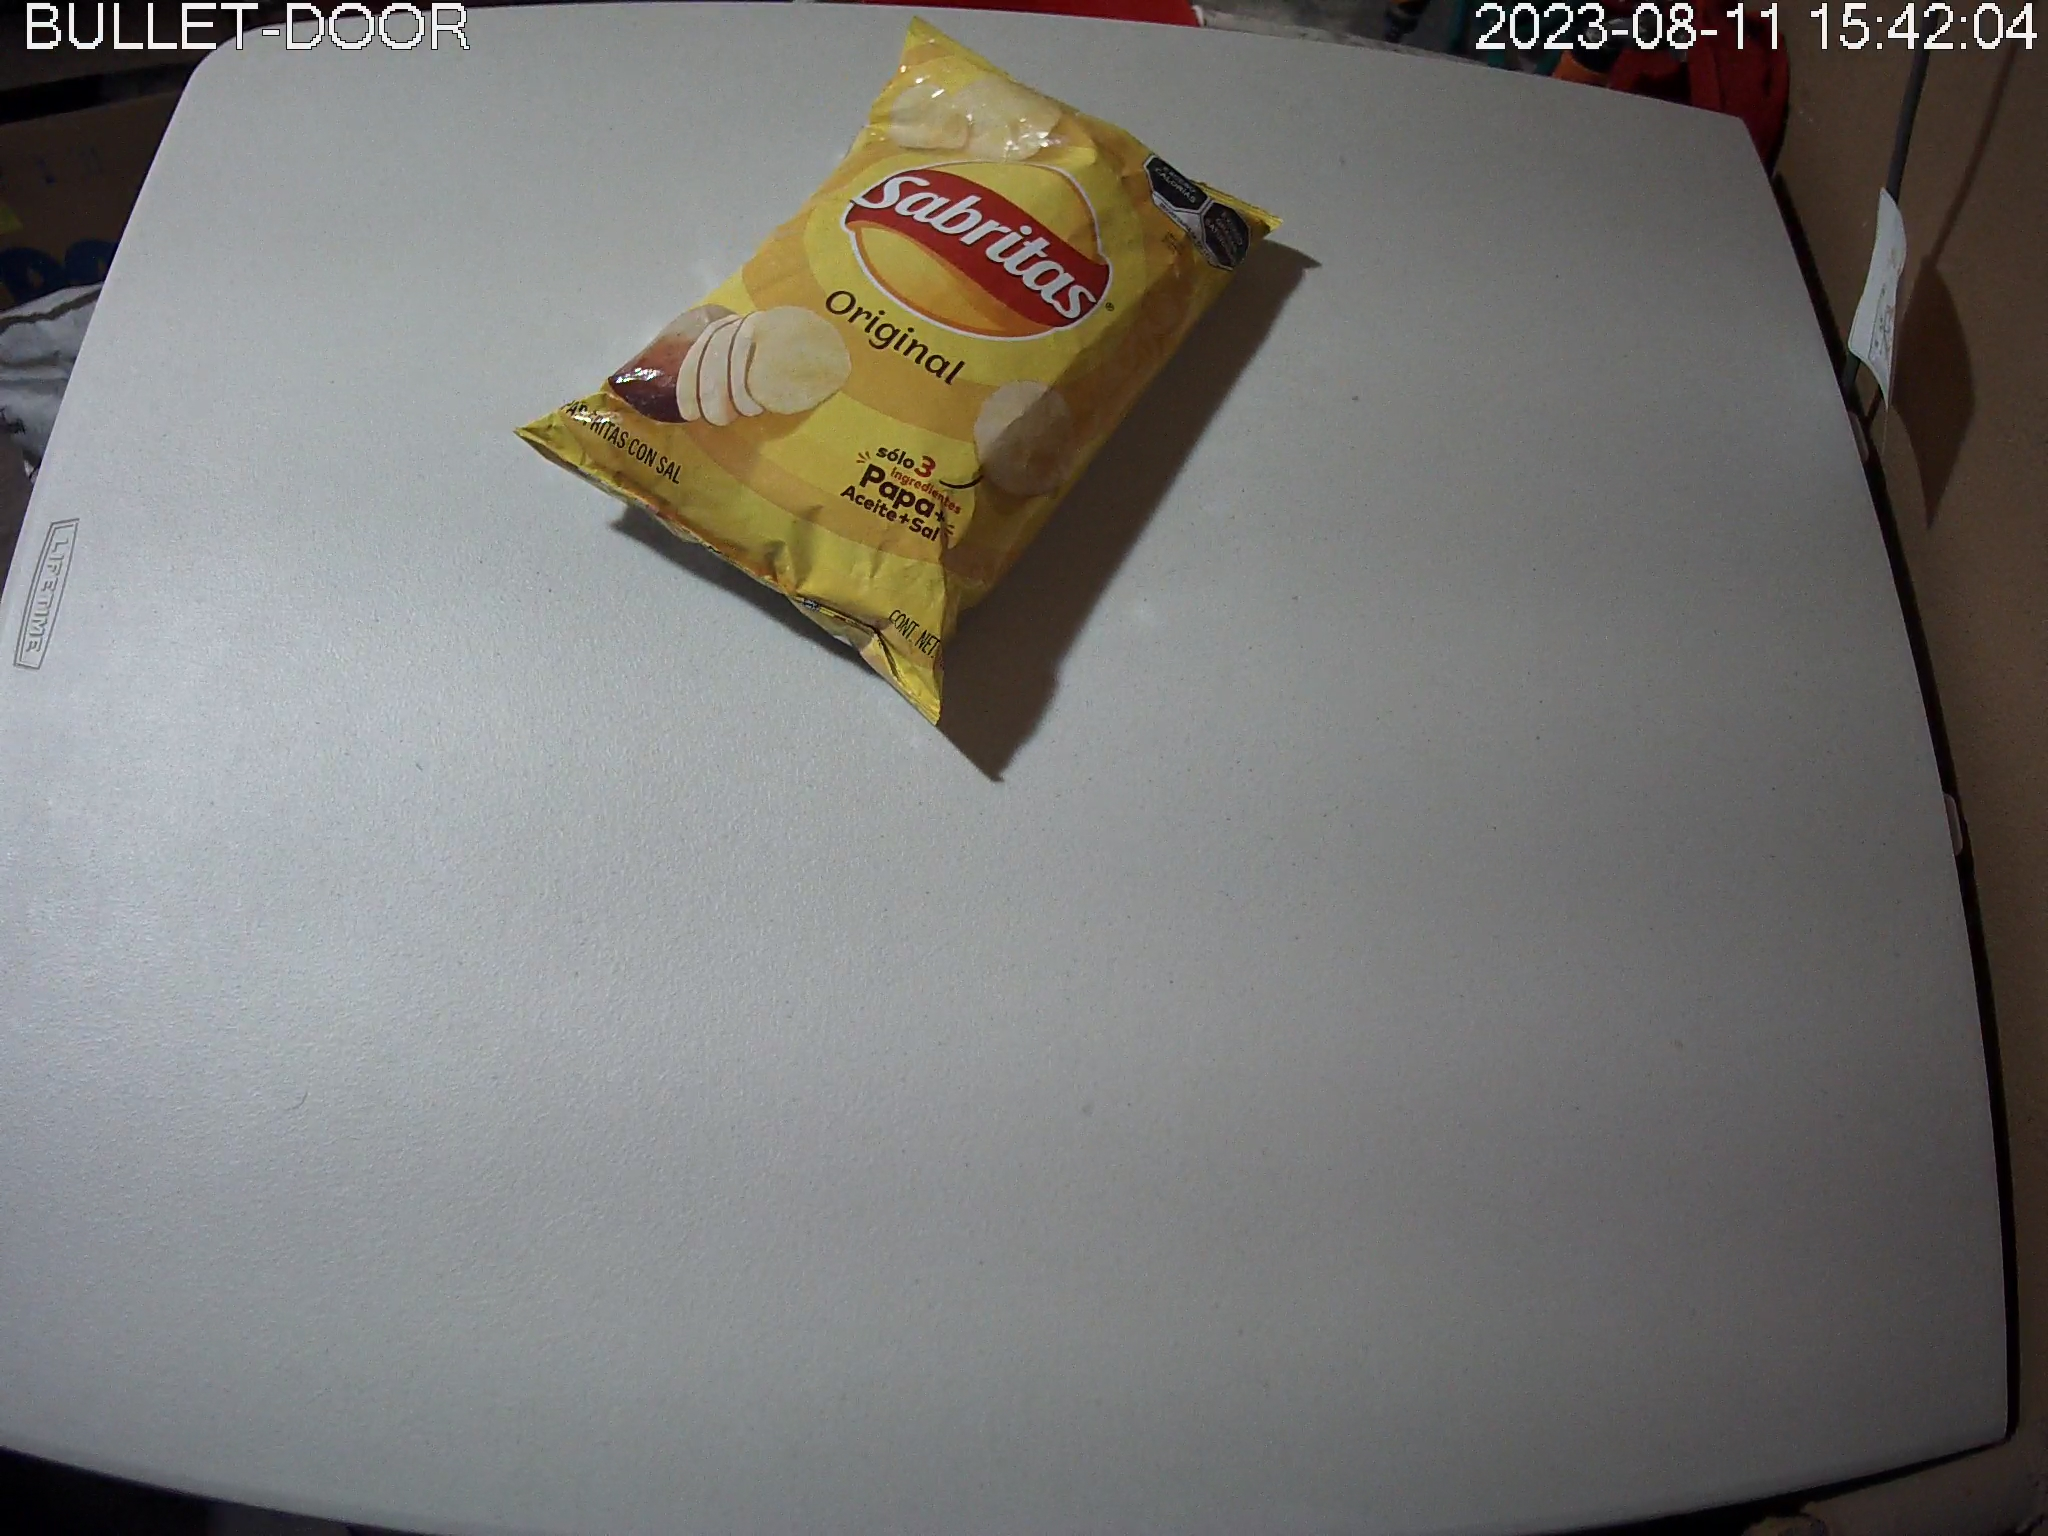Sabritas_160_F: (510, 11, 1285, 731)
